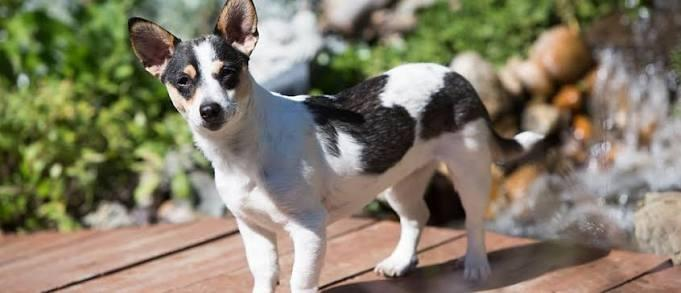adult_dog: (127, 0, 565, 293)
